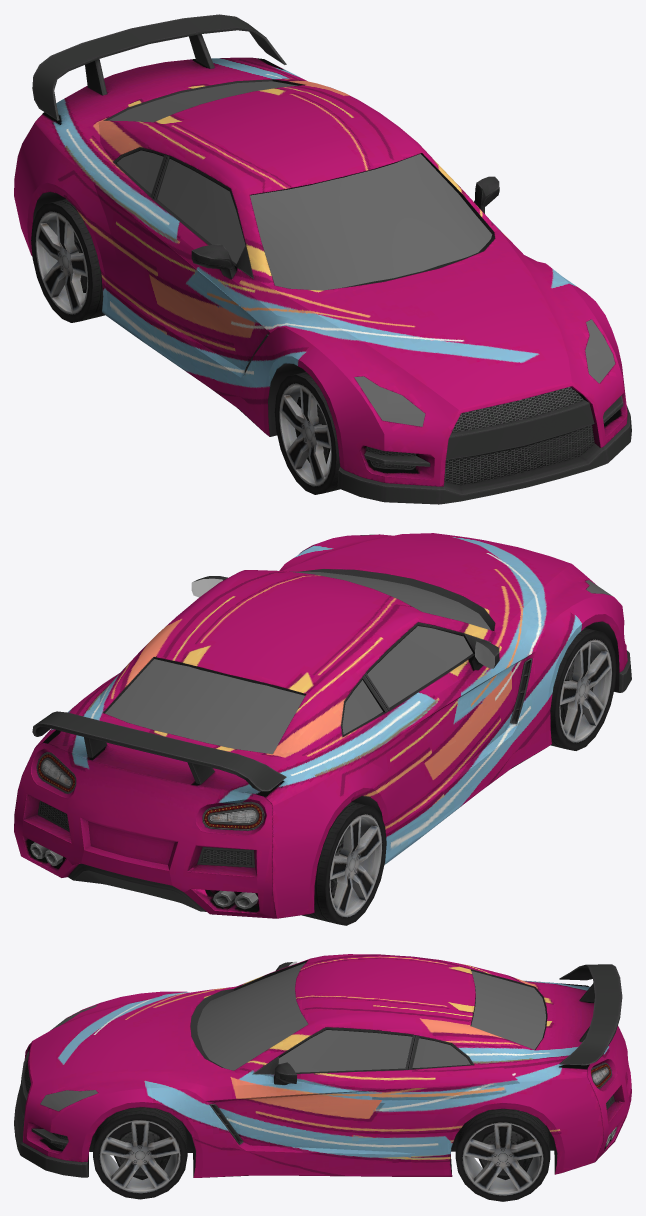
File: Nissan Pink.fbx
3 renders of one model, top to bottom at view 1: azimuth 30°, elevation 25°; view 2: azimuth 150°, elevation 25°; view 3: azimuth 270°, elevation 25°, orthographic. The views are drawn at different scales.
Visible parts, largest first — view 1: Body_8, Glass_8, Matte_8, Wheel_Back_R, Wheel_R, Glass_light; view 2: Body_8, Glass_8, Matte_8, Wheel_Back_R, Wheel_R, Taillights_8; view 3: Body_8, Glass_8, Matte_8, Wheel_Back_L, Wheel_L, Glass_light, Taillights_8.
Part boxes in pixels (left/top/right/bottom): Body_8: left=14, top=57, right=627, bottom=486; Glass_8: left=108, top=81, right=492, bottom=290; Matte_8: left=32, top=14, right=631, bottom=504; Wheel_Back_R: left=31, top=199, right=105, bottom=322; Wheel_R: left=274, top=372, right=340, bottom=494; Glass_light: left=354, top=319, right=615, bottom=426; Body_8: left=14, top=533, right=627, bottom=918; Glass_8: left=105, top=571, right=490, bottom=753; Matte_8: left=30, top=569, right=631, bottom=911; Wheel_Back_R: left=302, top=802, right=386, bottom=925; Wheel_R: left=550, top=628, right=616, bottom=750; Taillights_8: left=36, top=752, right=264, bottom=830; Body_8: left=22, top=954, right=631, bottom=1177; Glass_8: left=197, top=962, right=545, bottom=1072; Matte_8: left=14, top=960, right=622, bottom=1179; Wheel_Back_L: left=455, top=1109, right=550, bottom=1201; Wheel_L: left=93, top=1107, right=187, bottom=1199; Glass_light: left=40, top=1004, right=97, bottom=1111; Taillights_8: left=591, top=1062, right=611, bottom=1088.
Bounding box in the file's own units: 310 × 212 × 714.
